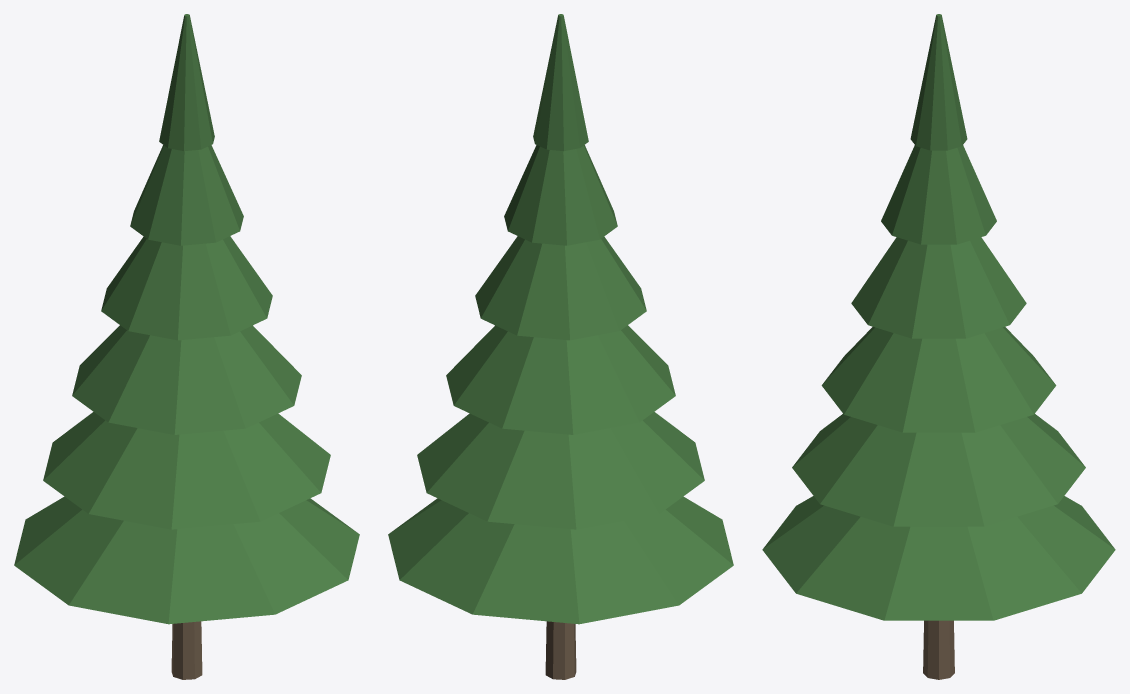
The model's file is Tree_Pine_2.fbx.
The picture shows the model from 3 angles, left to right: view 1: azimuth 30°, elevation 25°; view 2: azimuth 150°, elevation 25°; view 3: azimuth 270°, elevation 25°; orthographic projection.
Visible parts, largest first — view 1: Tree_Pine_2; view 2: Tree_Pine_2; view 3: Tree_Pine_2.
Boxes of the visible parts, x1,y1,x2,y2 form: Tree_Pine_2: (14, 14, 359, 679); Tree_Pine_2: (388, 14, 733, 679); Tree_Pine_2: (762, 14, 1115, 679).
Bounding box in the file's own units: 5.9 × 6.2 × 12.74.
